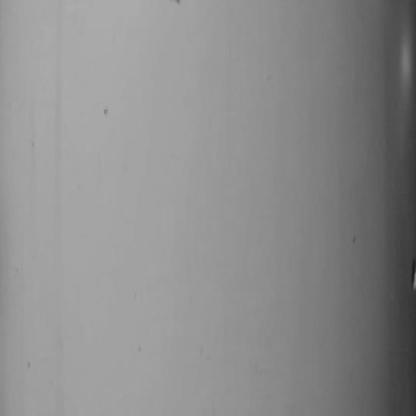kongdong: (405, 254, 416, 309)
